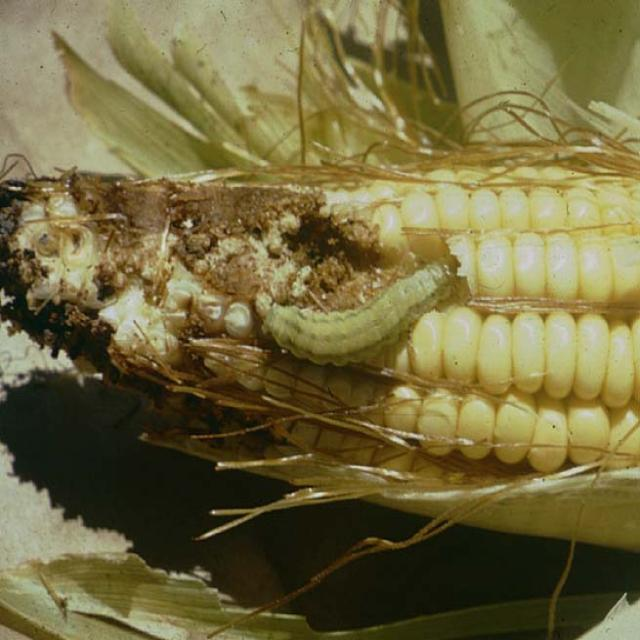worm: (254, 243, 463, 391)
